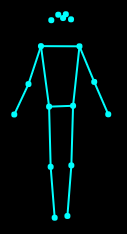mountain: (7, 8, 114, 223)
